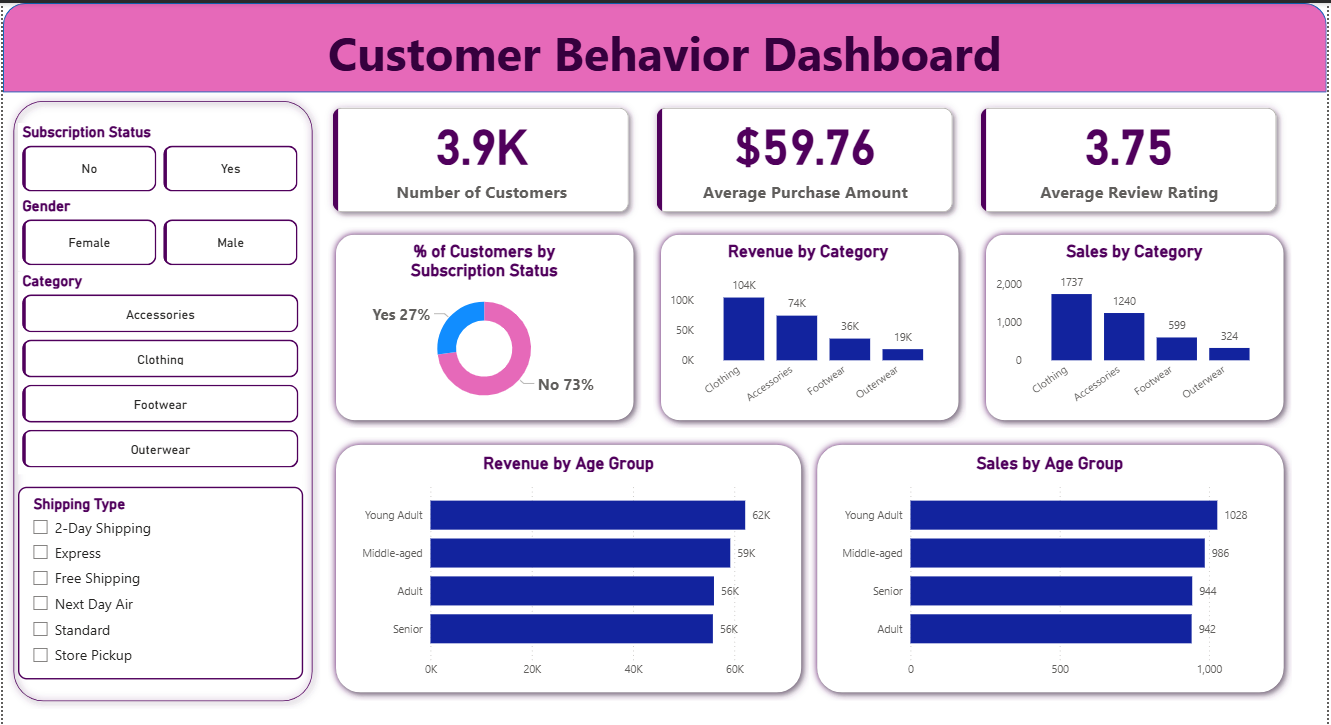

Layout of this report page (visuals, bound fields, positions):
{"tool":"powerbi","page":{"name":"Page 1","canvas":[1500,820],"ordinal":0},"visuals":[{"type":"shape","box":[368.4,491.6,545.4,298.9],"z":0},{"type":"cardVisual","fields":{"Data":["public customer.Number of Customers","public customer.Average Purchase Amount","public customer.Average Review Rating"]},"box":[357,101.3,1103.1,152.8],"z":1000},{"type":"shape","box":[0,0,1500.3,101.3],"z":2000},{"type":"textbox","box":[0,14.5,1500.3,86.8],"z":3000},{"type":"shape","box":[368.2,254.1,355.4,228.3],"z":4000},{"type":"donutChart","title":"% of Customers by Subscription Status","fields":{"Category":["public customer.subscription_status"],"Y":["CountNonNull(public customer.customer_id)"]},"box":[384.3,270.2,323.2,194.6],"z":5000},{"type":"shape","box":[1104.7,254.1,355.4,228.3],"z":6000},{"type":"shape","box":[736.5,254.1,355.4,228.3],"z":7000},{"type":"clusteredColumnChart","title":"Revenue by Category","fields":{"Y":["Sum(public customer.purchase_amount)"],"Category":["public customer.category"]},"box":[751,270.2,323.2,194.6],"z":8000},{"type":"clusteredColumnChart","title":"Sales by Category","fields":{"Y":["CountNonNull(public customer.customer_id)"],"Category":["public customer.category"]},"box":[1120.8,270.2,323.2,194.6],"z":9000},{"type":"shape","box":[2.8,102,357,698.4],"z":10000},{"type":"advancedSlicerVisual","title":"Subscription Status","fields":{"Values":["public customer.subscription_status"]},"box":[17,135.6,323.2,83.6],"z":11000},{"type":"advancedSlicerVisual","title":"Gender","fields":{"Values":["public customer.gender"]},"box":[17,219.7,323.2,83.6],"z":12000},{"type":"advancedSlicerVisual","title":"Category","fields":{"Values":["public customer.category"]},"box":[17,303.9,323.2,230],"z":13000},{"type":"slicer","fields":{"Values":["public customer.shipping_type"]},"box":[17,548.9,323.2,218.7],"z":14000},{"type":"clusteredBarChart","title":"Revenue by Age Group","fields":{"Y":["Sum(public customer.purchase_amount)"],"Category":["public customer.age_group"]},"box":[396.7,510,488.8,263.5],"z":15000},{"type":"shape","box":[913.8,491.6,546.9,298.9],"z":16000},{"type":"clusteredBarChart","title":"Sales by Age Group","fields":{"Y":["CountNonNull(public customer.customer_id)"],"Category":["public customer.age_group"]},"box":[940.7,510,491.6,263.5],"z":17000}]}

Visuals, with their boxes in screenshot pixels (x1, y1, x2, y2), scaled from the page's 1500x820 canvas onto the 1331x725 screenshot:
shape: (left=327, top=435, right=811, bottom=699)
cardVisual - public customer.Number of Customers x public customer.Average Purchase Amount: (left=317, top=90, right=1296, bottom=225)
shape: (left=0, top=0, right=1330, bottom=90)
textbox: (left=0, top=13, right=1330, bottom=90)
shape: (left=327, top=225, right=642, bottom=427)
"% of Customers by Subscription Status" donutChart: (left=341, top=239, right=628, bottom=411)
shape: (left=980, top=225, right=1296, bottom=427)
shape: (left=654, top=225, right=969, bottom=427)
"Revenue by Category" clusteredColumnChart: (left=666, top=239, right=953, bottom=411)
"Sales by Category" clusteredColumnChart: (left=995, top=239, right=1281, bottom=411)
shape: (left=2, top=90, right=319, bottom=708)
"Subscription Status" advancedSlicerVisual: (left=15, top=120, right=302, bottom=194)
"Gender" advancedSlicerVisual: (left=15, top=194, right=302, bottom=268)
"Category" advancedSlicerVisual: (left=15, top=269, right=302, bottom=472)
slicer - public customer.shipping_type: (left=15, top=485, right=302, bottom=679)
"Revenue by Age Group" clusteredBarChart: (left=352, top=451, right=786, bottom=684)
shape: (left=811, top=435, right=1296, bottom=699)
"Sales by Age Group" clusteredBarChart: (left=835, top=451, right=1271, bottom=684)
